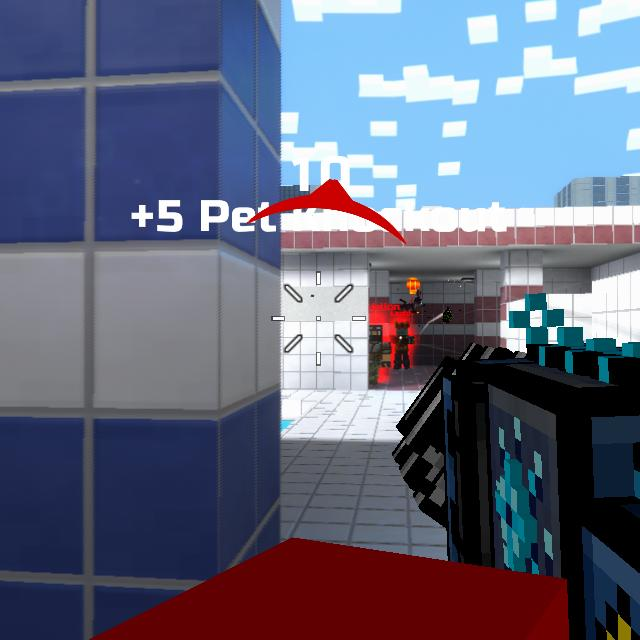Enemy: (368, 323, 390, 385), (390, 322, 416, 368)
